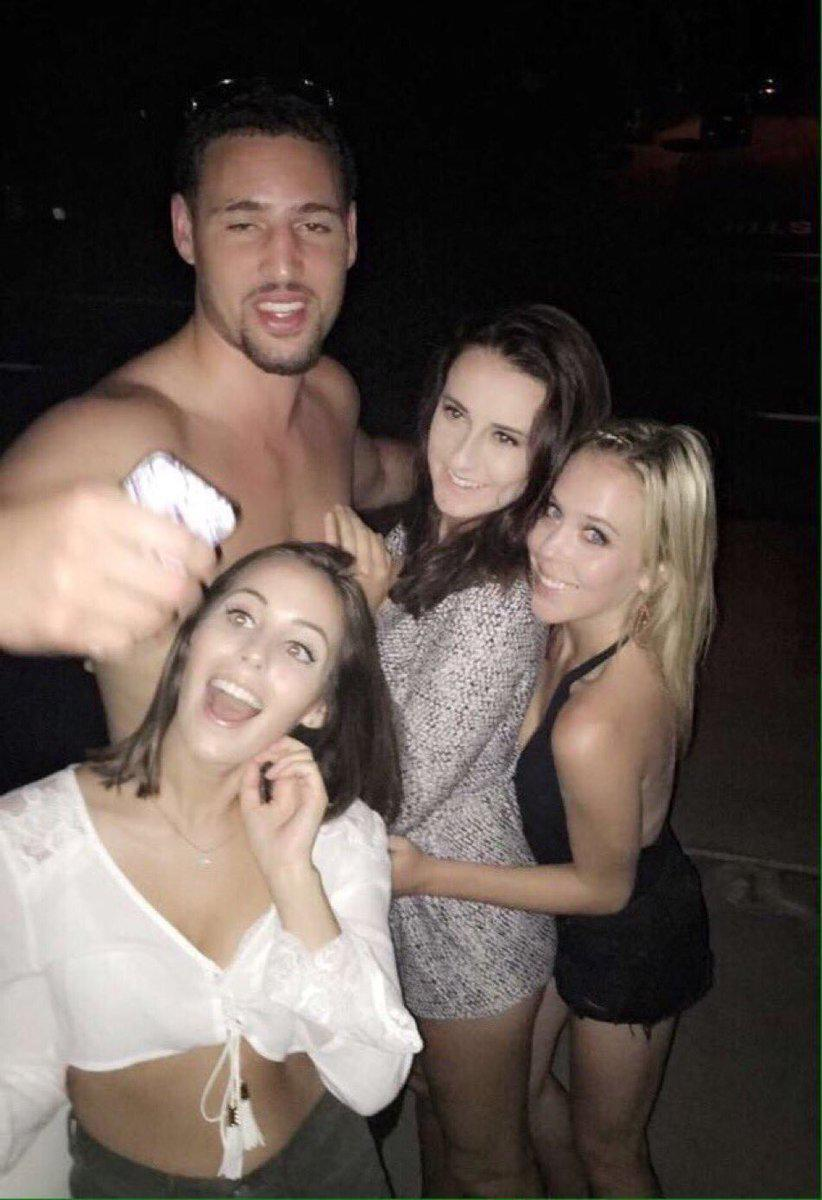Drunk: (206, 141, 339, 352), (198, 561, 329, 763), (531, 463, 637, 614), (426, 363, 527, 518)
